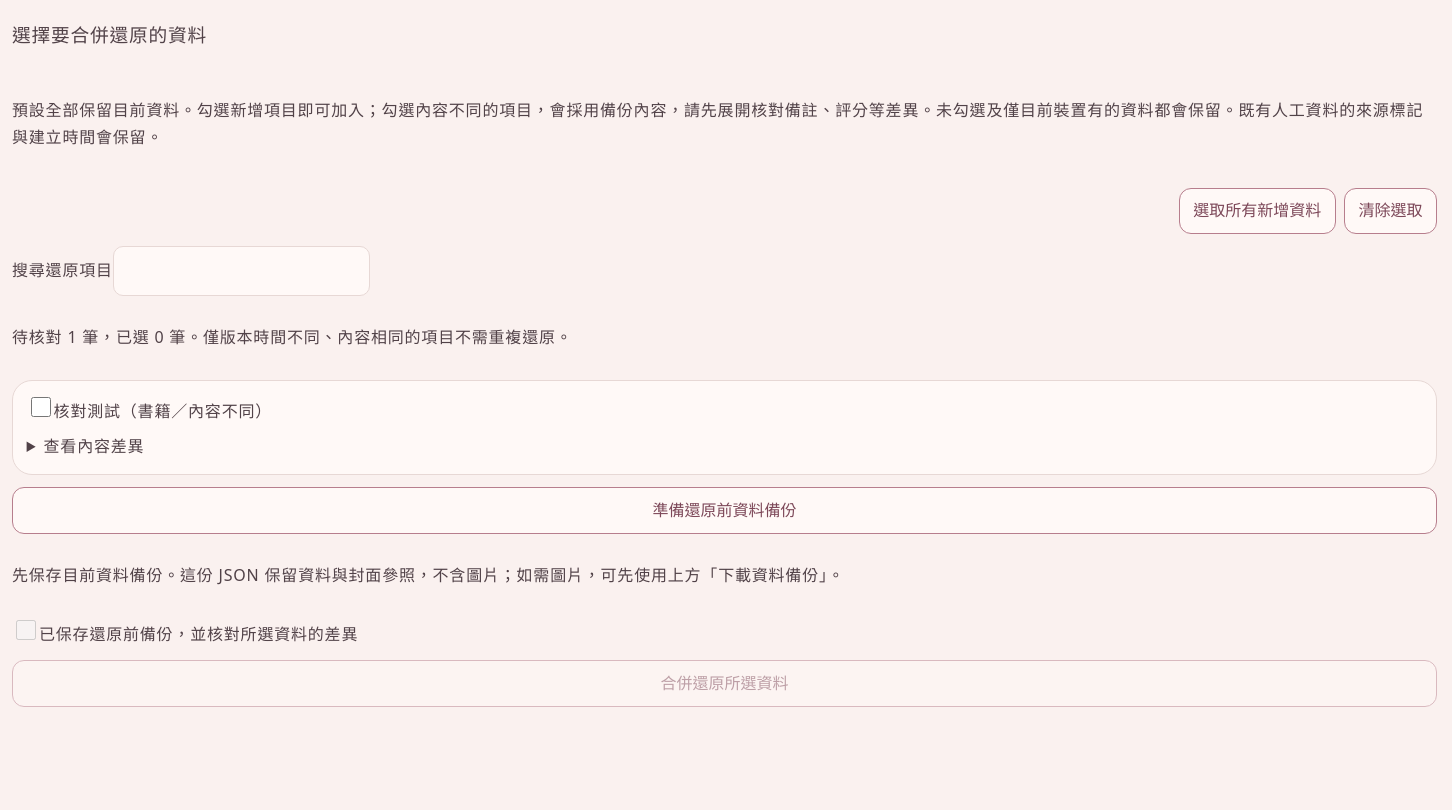
Test case: keeps conflicts unselected and requires a before-restore download and confirmation; disposes its URL
expect the button "合併還原所選資料" is disabled: met, box [12,660,1437,707]
Click the checkbox labelled "核對測試（書籍／內容不同）".
click(41, 407)  # box [31,397,51,417]
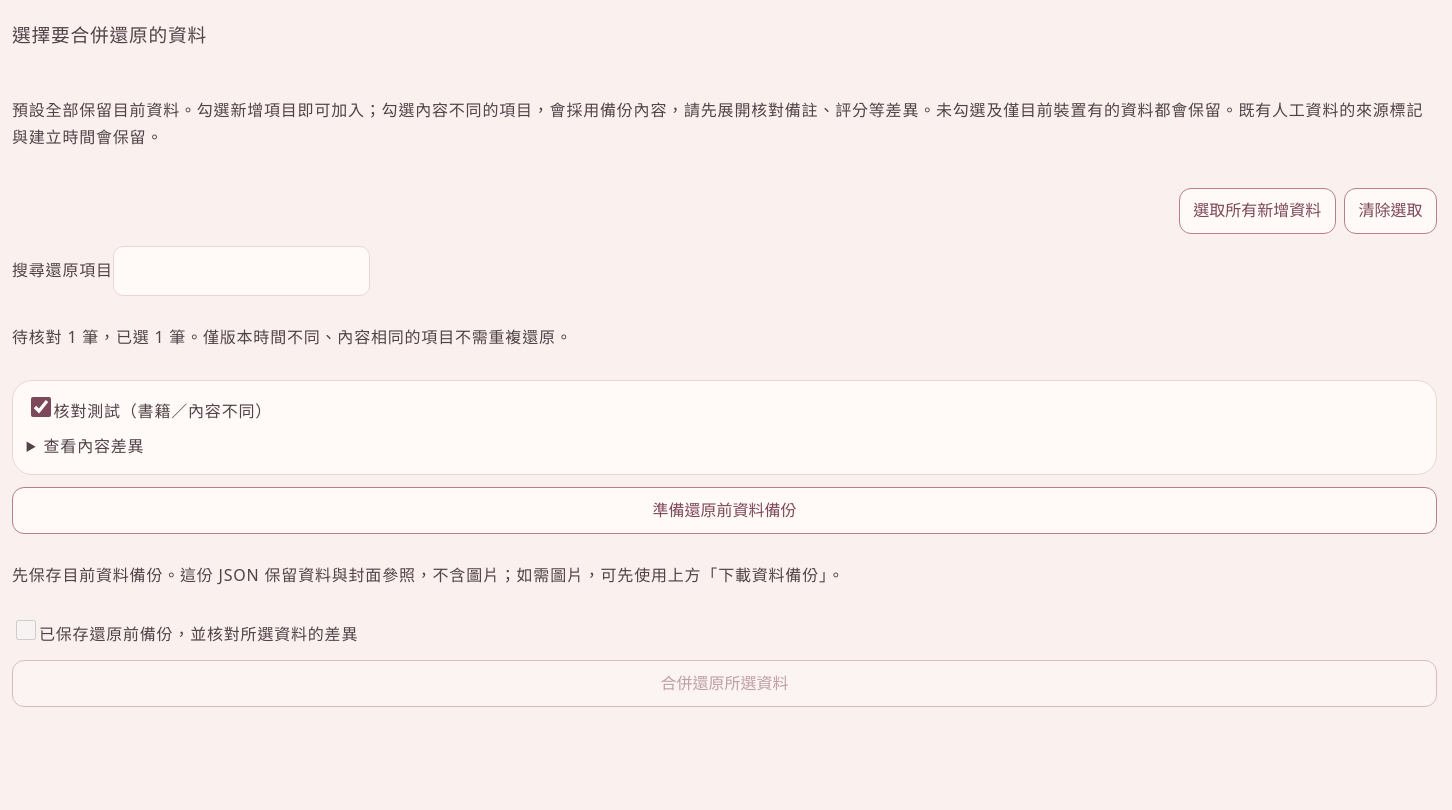
Click the button "準備還原前資料備份".
click(724, 510)  # box [12,487,1437,534]
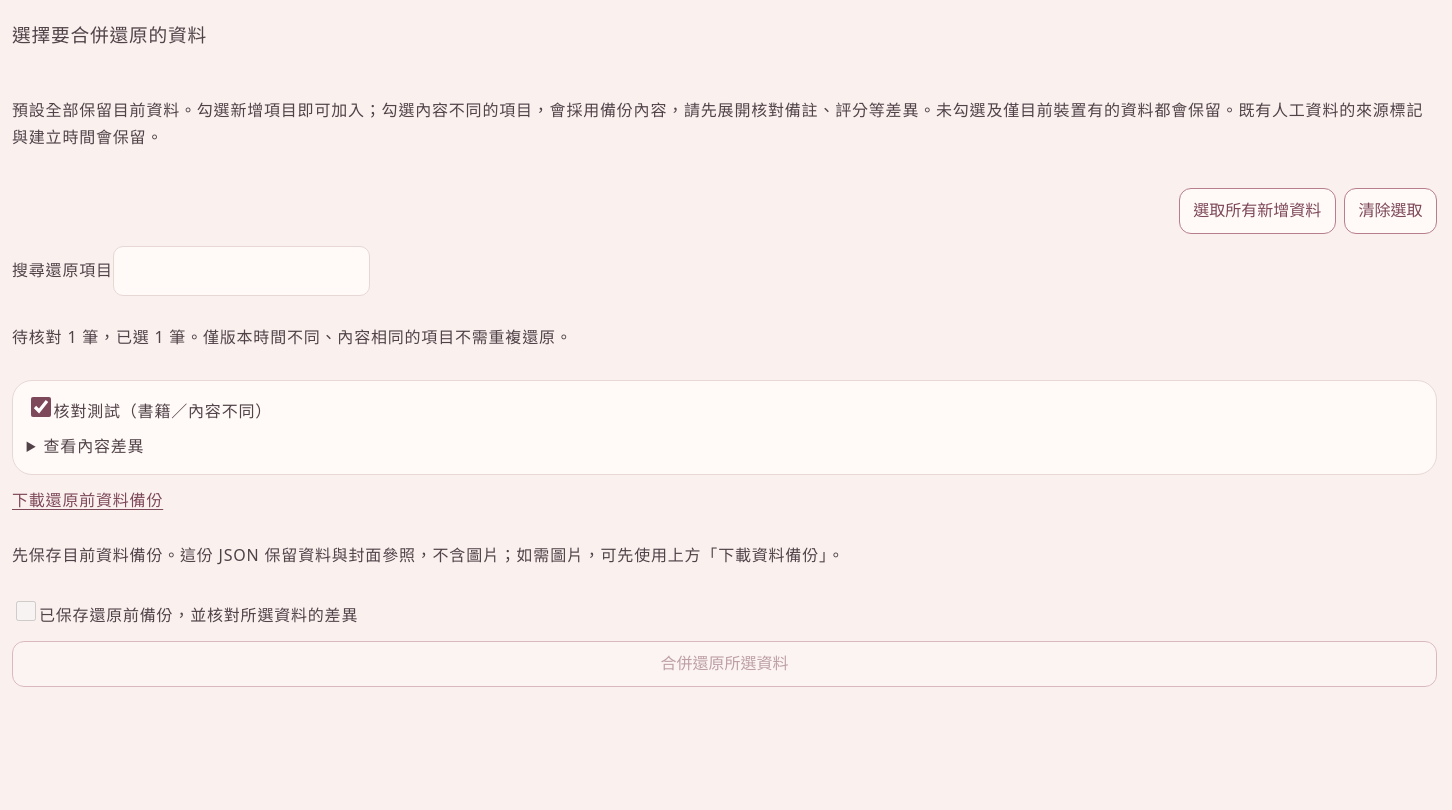
Click the link "下載還原前資料備份".
click(88, 500)  # box [12,489,163,511]
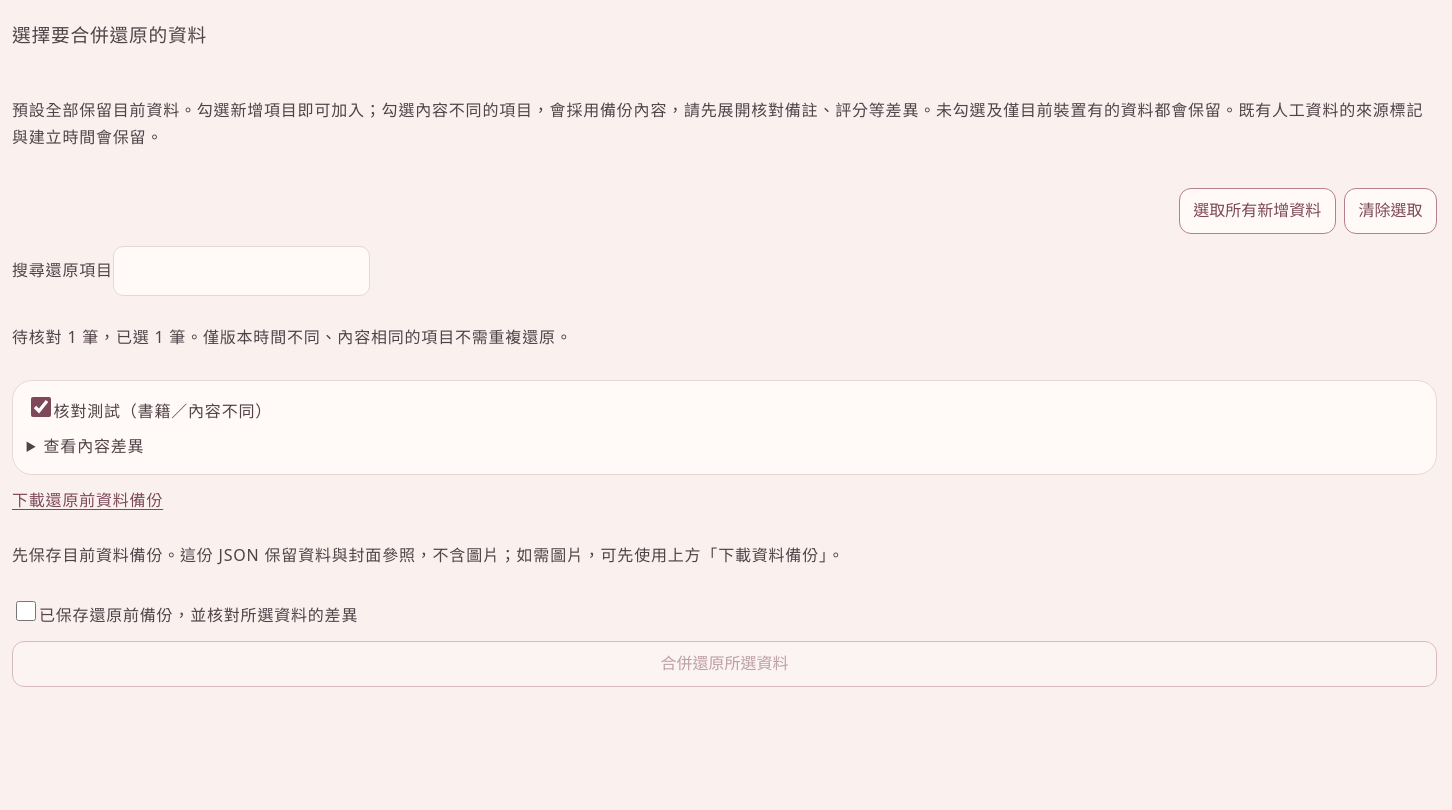
Click the checkbox labelled "已保存還原前備份，並核對所選資料的差異".
click(26, 610)  # box [16,600,36,620]
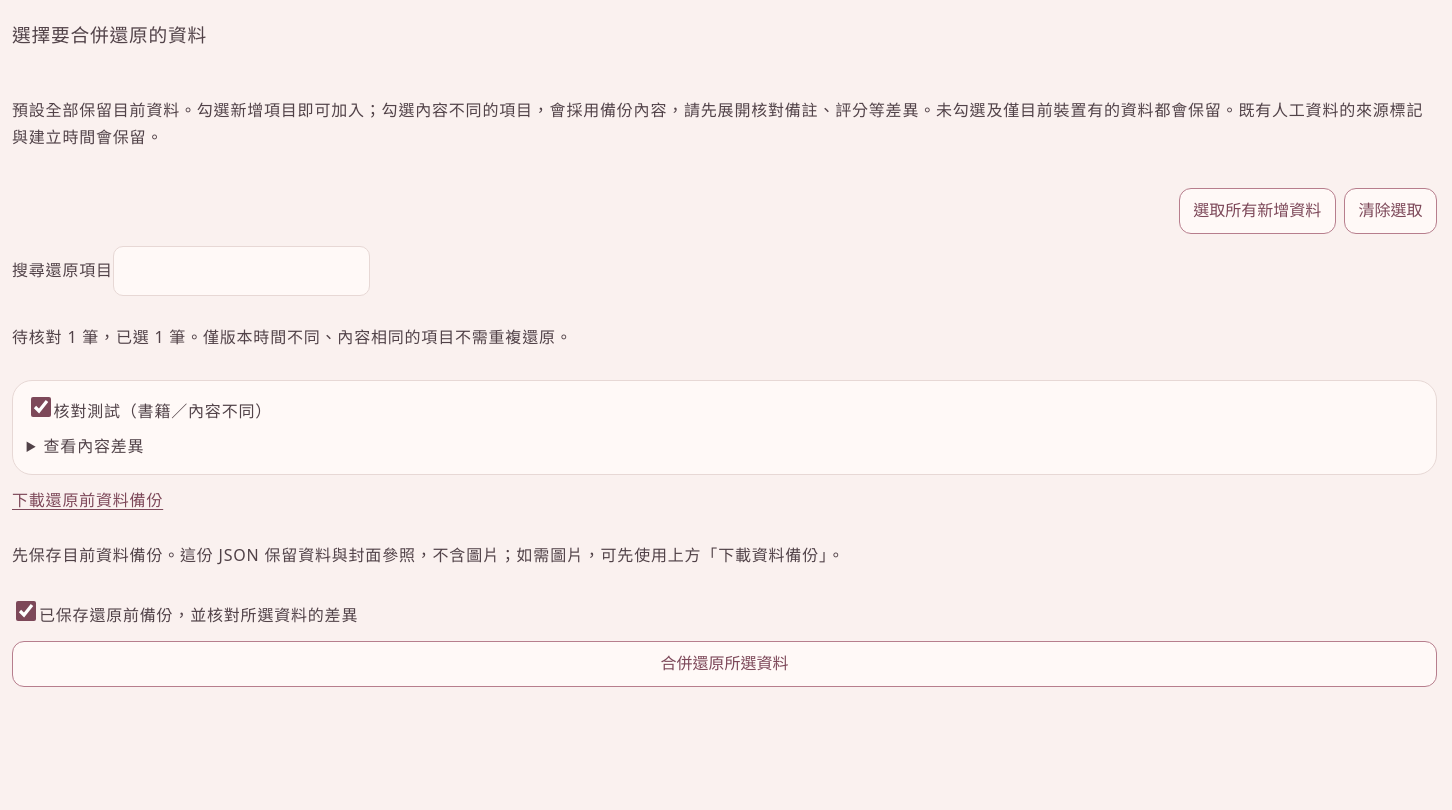
expect the button "合併還原所選資料" is enabled: met
Click the button "合併還原所選資料".
click(724, 664)  # box [12,641,1437,688]
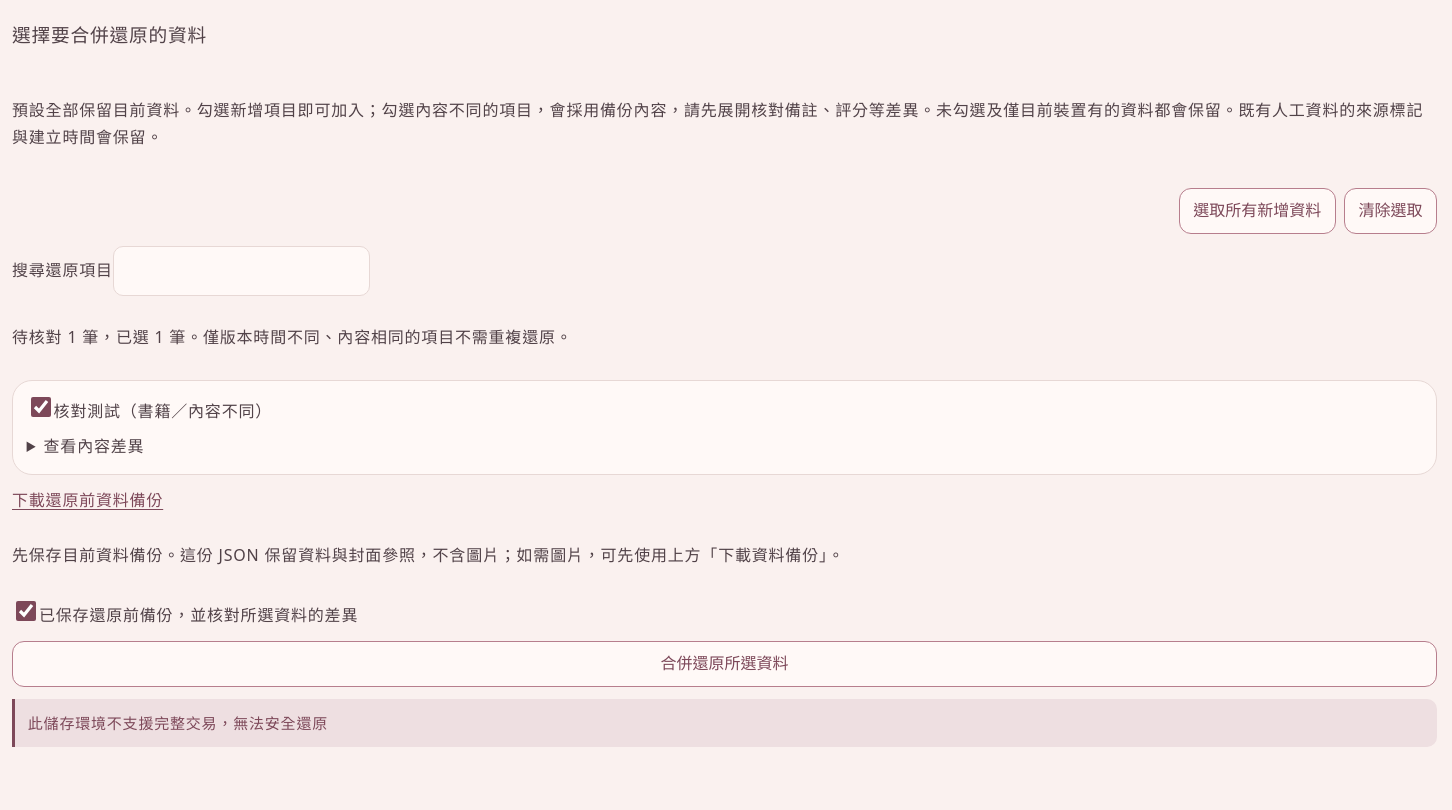
expect the message shows "不支援完整交易": met, box [28,713,328,733]
